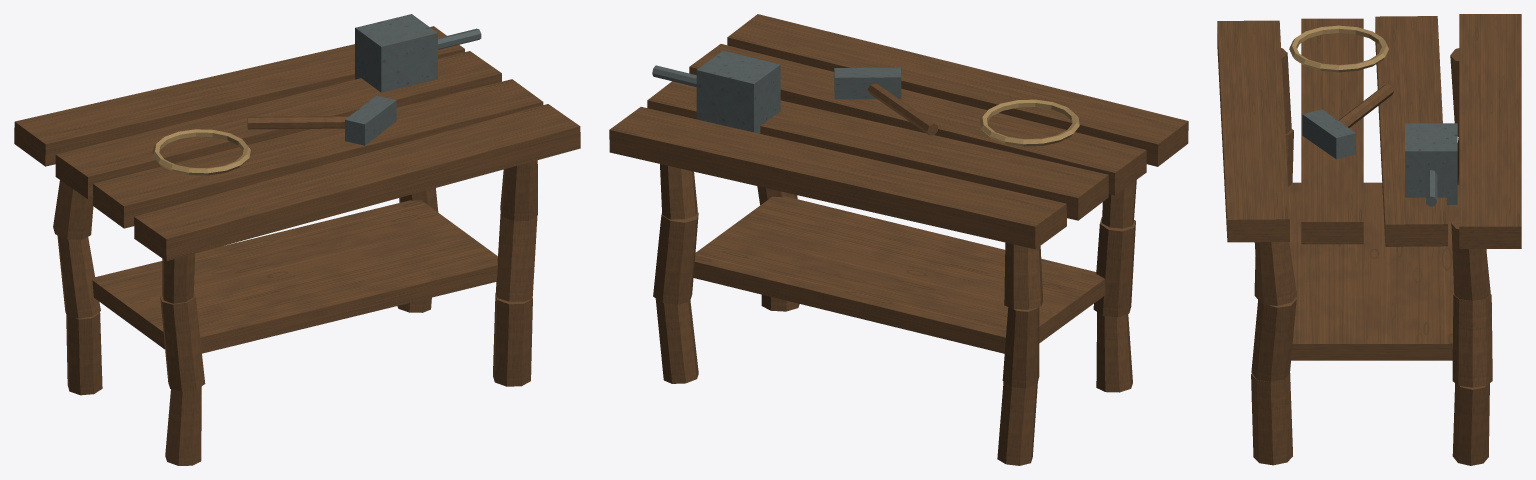
Rendered from ax-craft-001_crafting_workbench__clean.obj.
3 views of the same model, side by side, from view 1: azimuth 30°, elevation 25°; view 2: azimuth 150°, elevation 25°; view 3: azimuth 270°, elevation 25° (orthographic).
Parts seen in each view (by area): view 1: ax-craft-001_crafting_workbench__clean; view 2: ax-craft-001_crafting_workbench__clean; view 3: ax-craft-001_crafting_workbench__clean.
Part boxes in pixels (x1,y1,x2,y2): ax-craft-001_crafting_workbench__clean: (14, 14, 580, 465); ax-craft-001_crafting_workbench__clean: (609, 14, 1188, 465); ax-craft-001_crafting_workbench__clean: (1217, 14, 1521, 465).
Size of the model in its own units: 1.48 by 1.02 by 0.9255.
3 materials, 3 textured.
